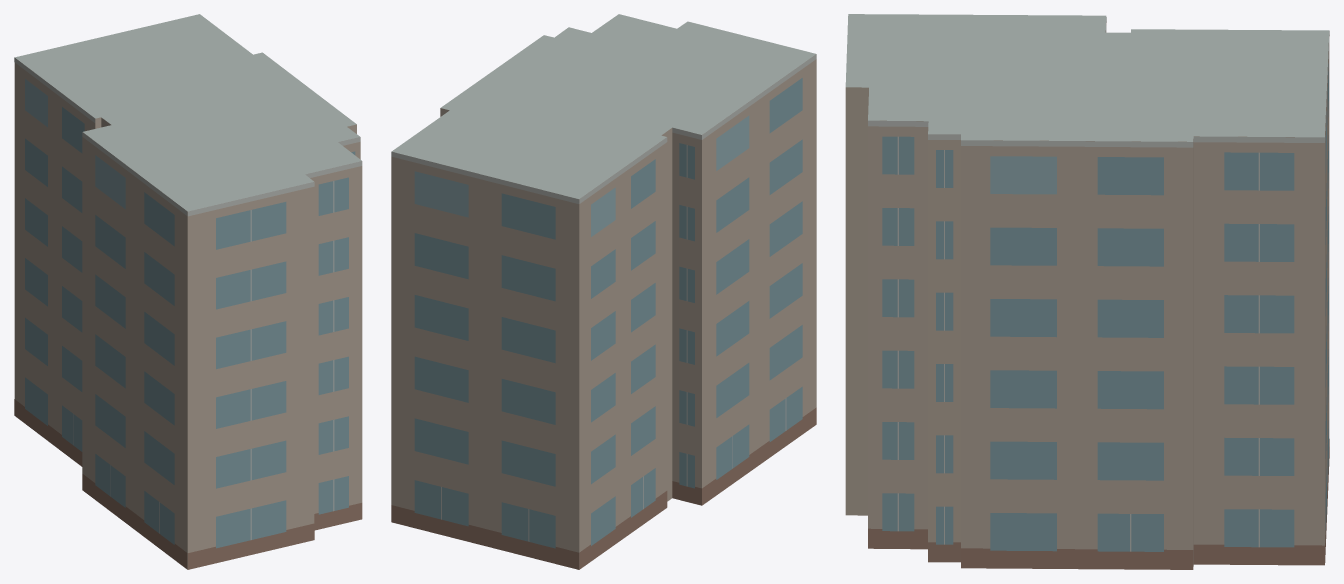
File: survey-upis-32746529.glb
3 renders of one model, left to right at view 1: azimuth 30°, elevation 25°; view 2: azimuth 150°, elevation 25°; view 3: azimuth 270°, elevation 25°, orthographic. The views are drawn at different scales.
Parts seen in each view (by area): view 1: survey-upis-32746529.tmp; view 2: survey-upis-32746529.tmp; view 3: survey-upis-32746529.tmp.
Boxes of the visible parts, bbox=[...] form: survey-upis-32746529.tmp: bbox=[14, 14, 362, 569]; survey-upis-32746529.tmp: bbox=[391, 14, 816, 569]; survey-upis-32746529.tmp: bbox=[845, 14, 1329, 569].
Size of the model in its own units: 11.6 by 18.1 by 18.55.
